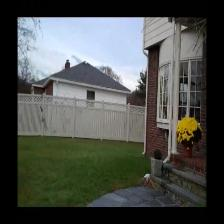fire: (175, 116, 200, 138)
